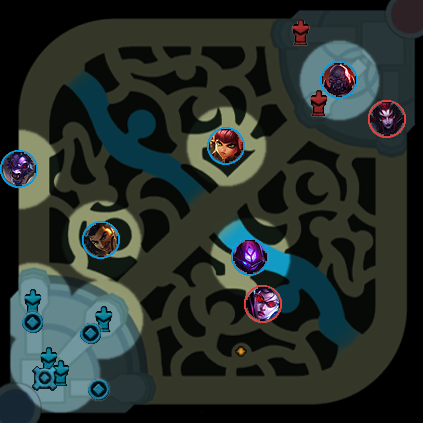Akshan: (82, 221, 120, 259)
Alistar: (0, 150, 38, 188)
Annie: (207, 127, 245, 165)
Elise: (368, 100, 406, 138)
Malzahar: (231, 238, 269, 276)
Sion: (320, 61, 358, 99)
Vayne: (244, 285, 282, 323)
